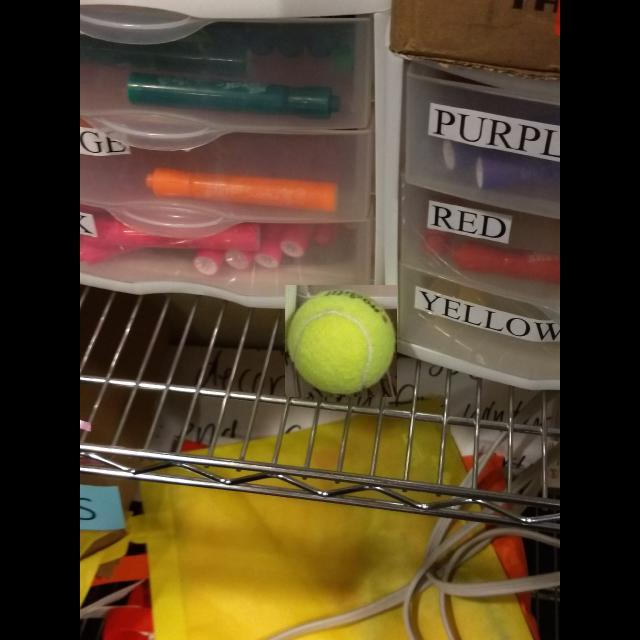tennis ball: (285, 285, 397, 397)
